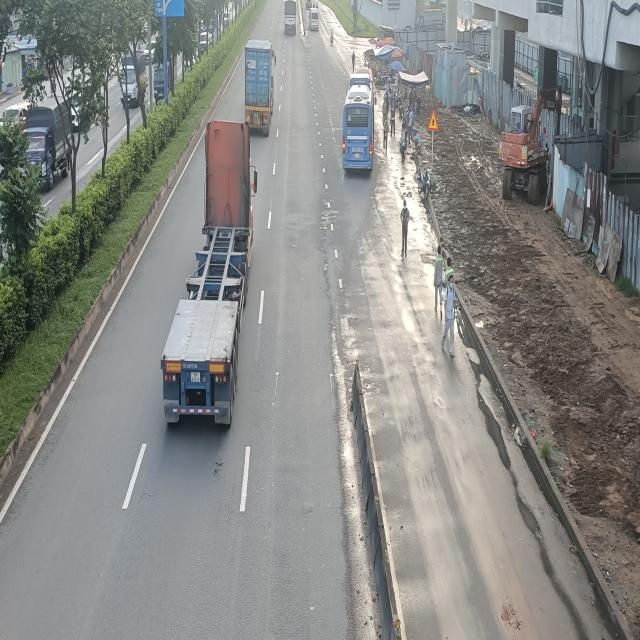coach: (343, 78, 373, 174)
container: (162, 121, 260, 431), (245, 43, 276, 138)
truck: (284, 0, 298, 38)
